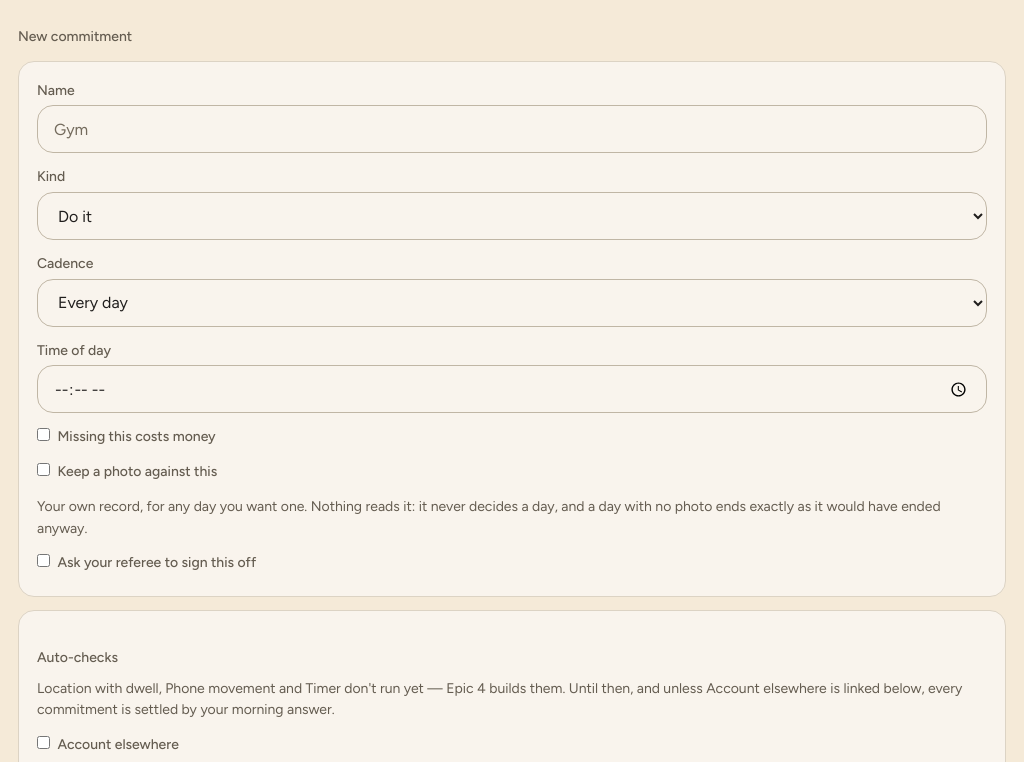
Test: the commitment form › says plainly that nothing can check an abstain commitment
Expected: the text "Location with dwell, Phone movement and Timer" is shown, [37,680,962,718]
Select "Avoid it" in the dropdown labelled "Kind" at (512, 216), box [37,192,987,240]
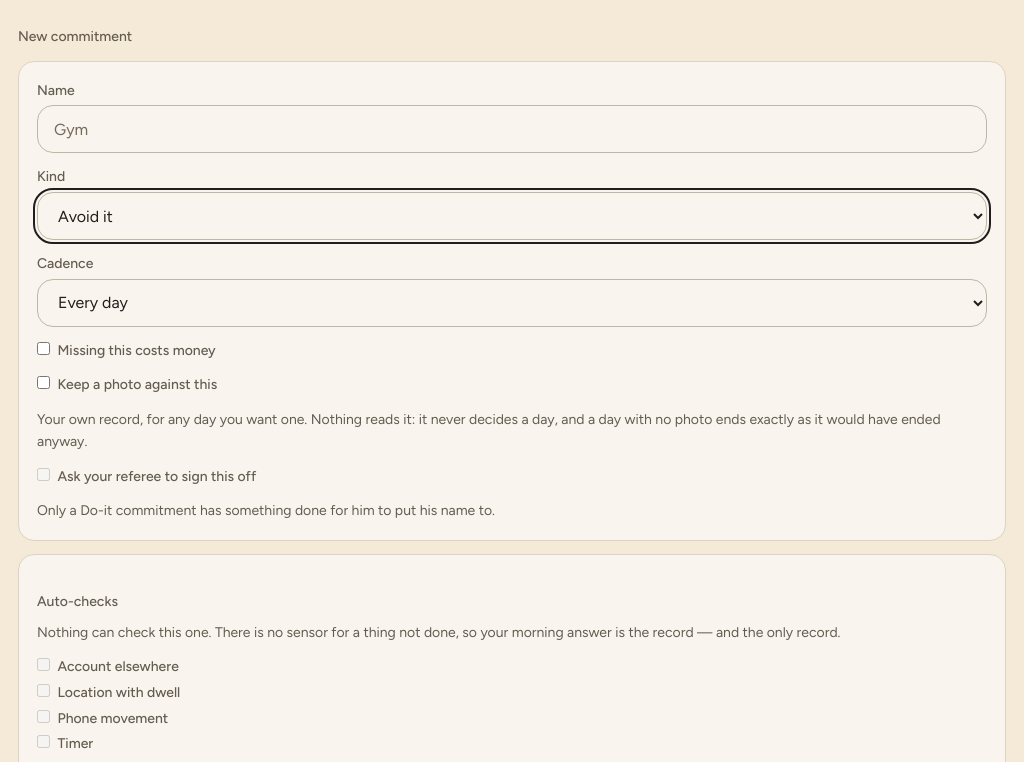
Now the text "There is no sensor for a thing not done" is shown, box [37,624,840,641]
